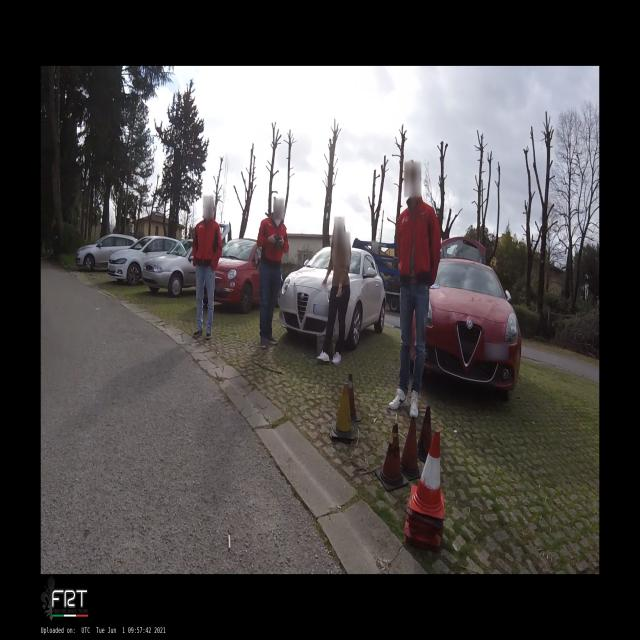orange_cone: (410, 430, 444, 519)
unknown_cone: (375, 422, 409, 490), (401, 416, 423, 480), (331, 384, 356, 439), (417, 406, 432, 462), (348, 374, 362, 421)
